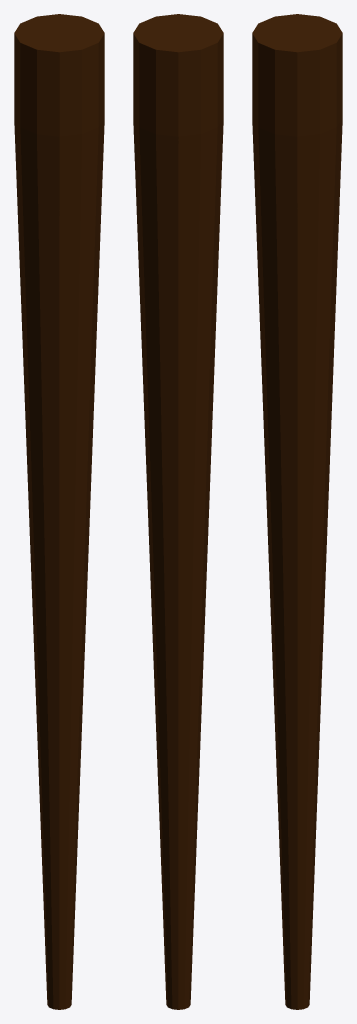
File: torch.glb
3 views of the same model, side by side, from view 1: azimuth 30°, elevation 25°; view 2: azimuth 150°, elevation 25°; view 3: azimuth 330°, elevation 25° (orthographic).
Parts seen in each view (by area): view 1: Torch; view 2: Torch; view 3: Torch.
Part boxes in pixels (left/top/right/bottom): Torch: left=14, top=14, right=104, bottom=1009; Torch: left=133, top=14, right=223, bottom=1009; Torch: left=252, top=14, right=342, bottom=1009.
Size of the model in its own units: 0.102 by 1.21 by 0.102.
